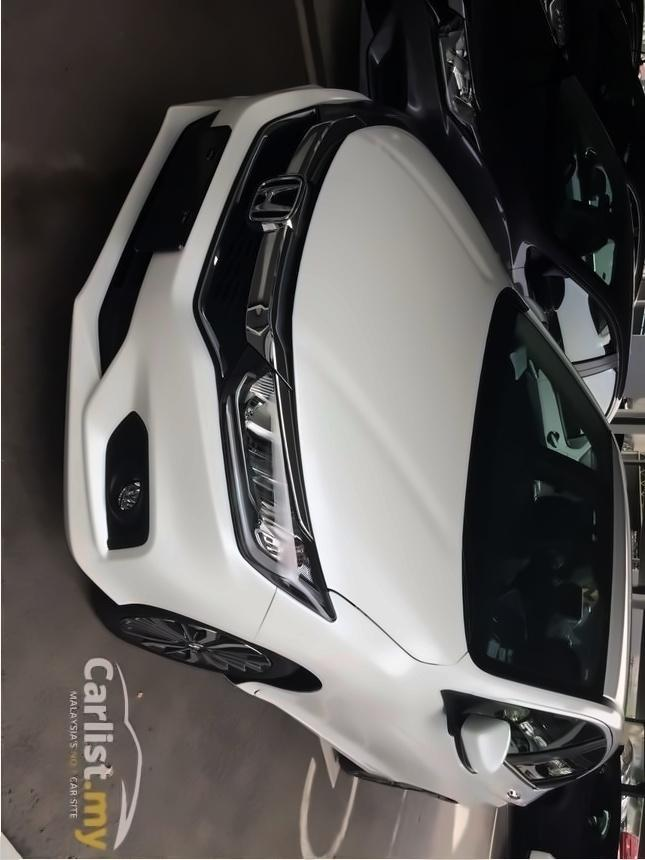Car hood: (290, 118, 510, 671)
Fender - -F-L-: (237, 543, 496, 698)
Front bumper: (58, 70, 289, 646)
Headlight - -L-: (210, 350, 335, 612)
Passenger-s door - -F-L-: (295, 698, 633, 762)
Passenger-s door - -R-L-: (346, 753, 612, 799)
Side bumper - -L-: (220, 685, 408, 801)
Side mirror - -L-: (435, 675, 517, 787)
